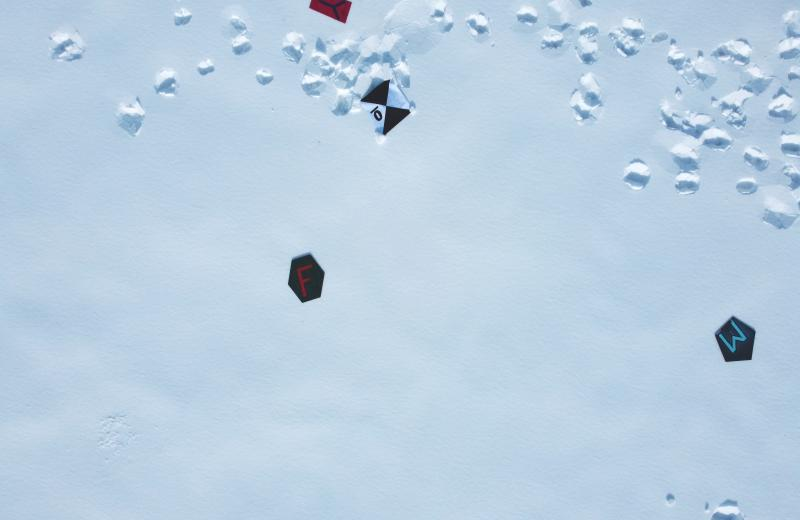Hexagon: (286, 251, 326, 304)
Pentagon: (714, 313, 758, 364)
Rectangle: (308, 0, 354, 25)
